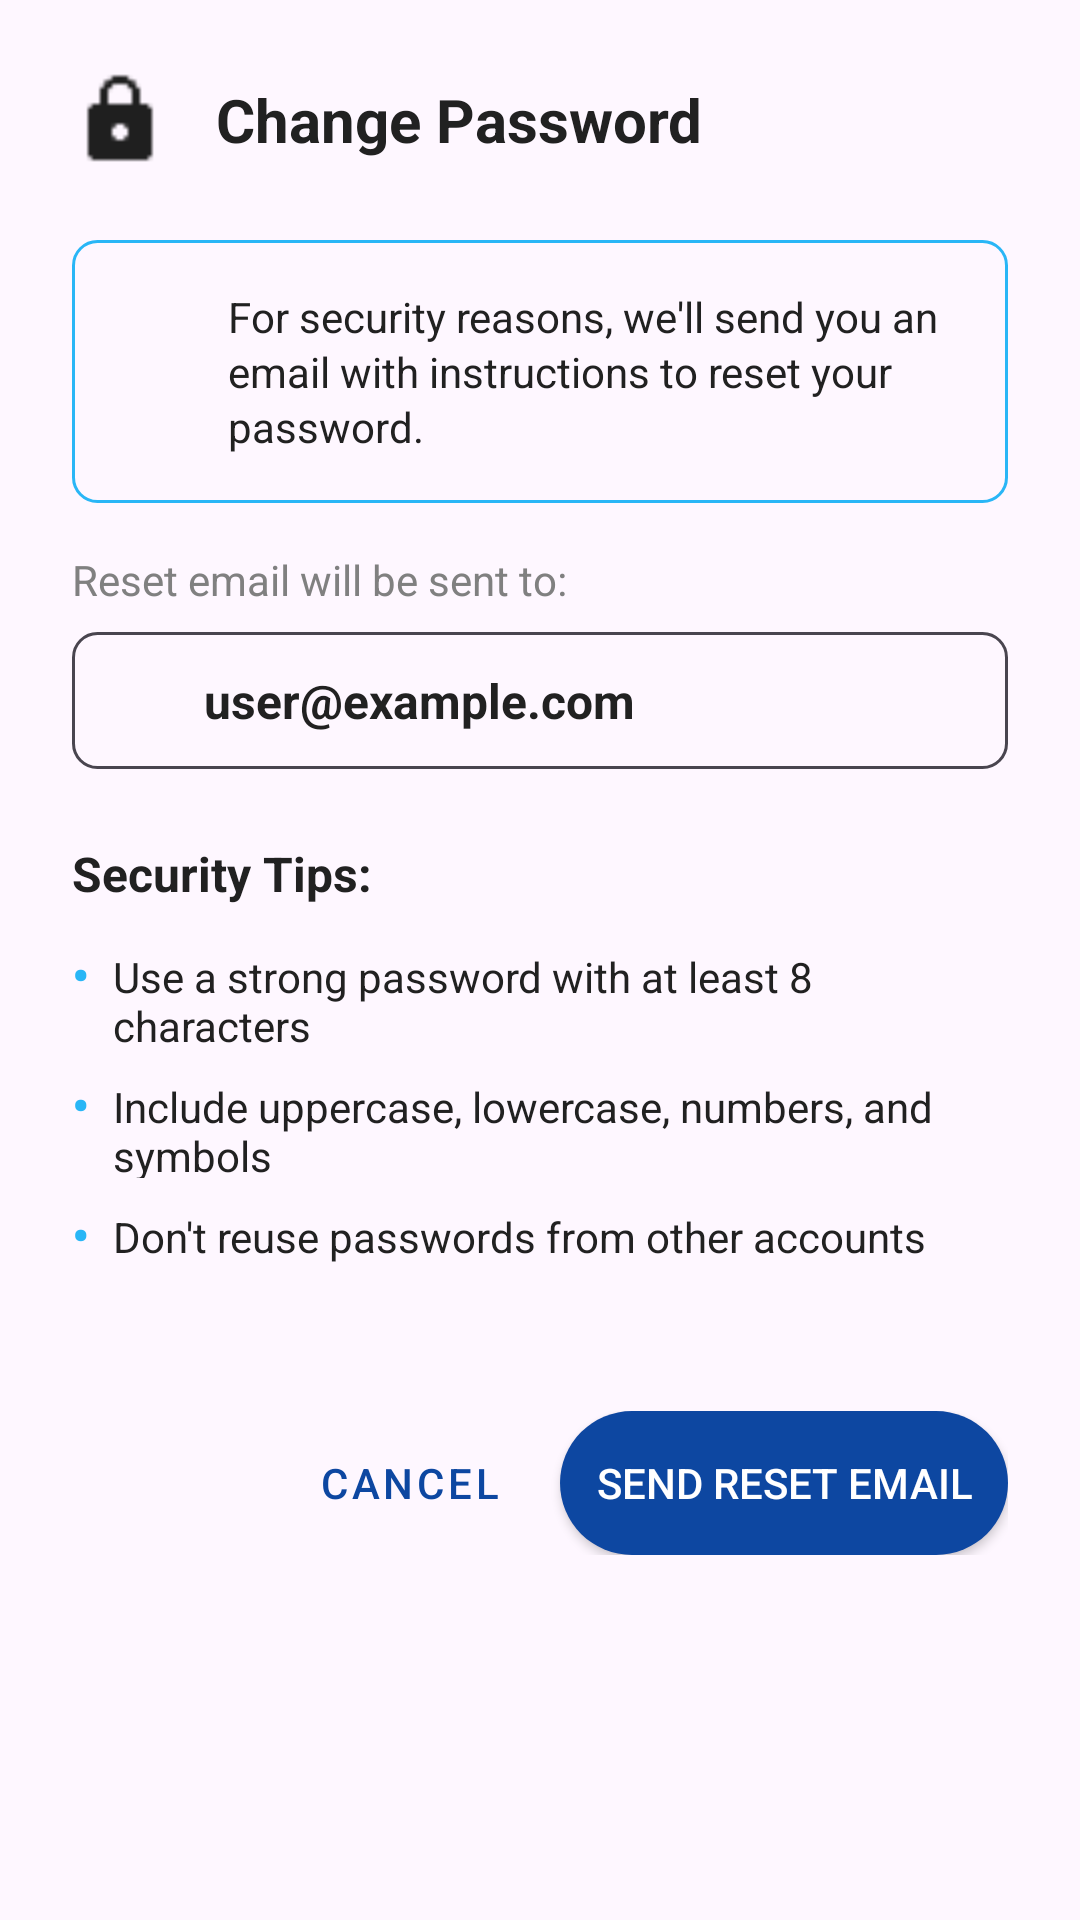

Where icons sit on this 1080 x 1920 app screen, as (x1, y1, x2, y2):
Lock Icon: (86, 74, 154, 162)
